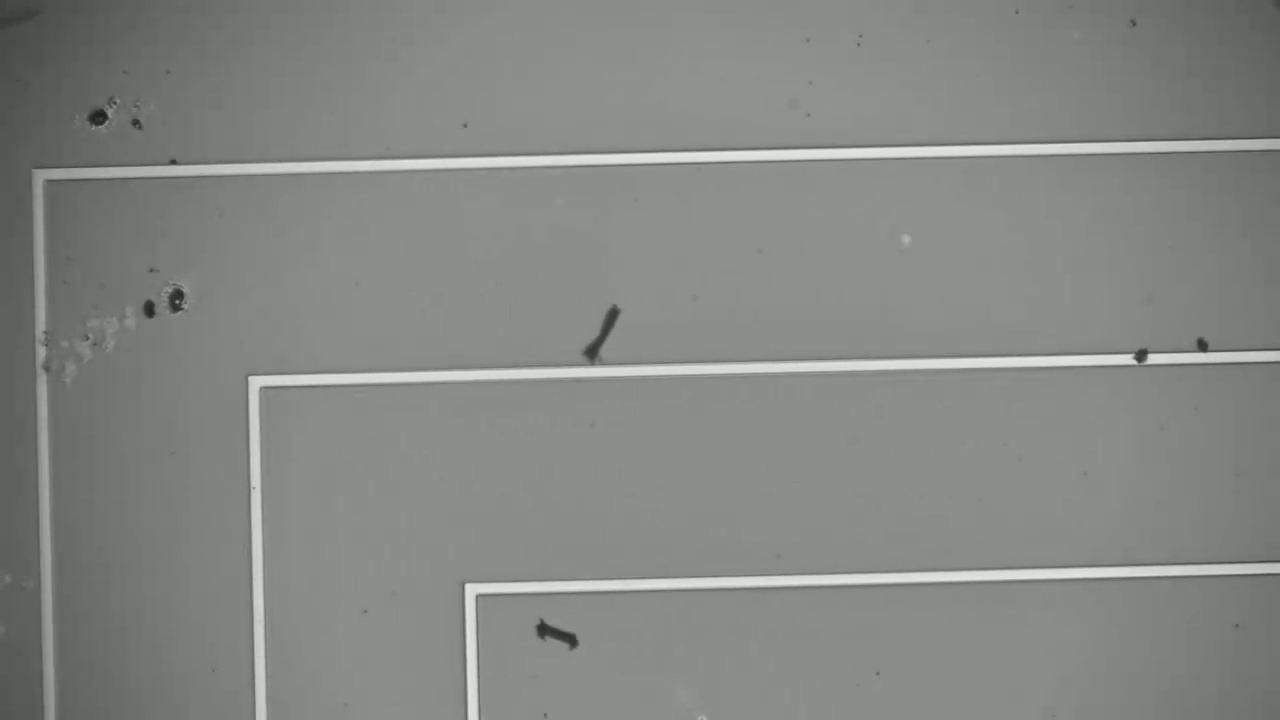stains_enbedded: (1134, 336, 1160, 375)
